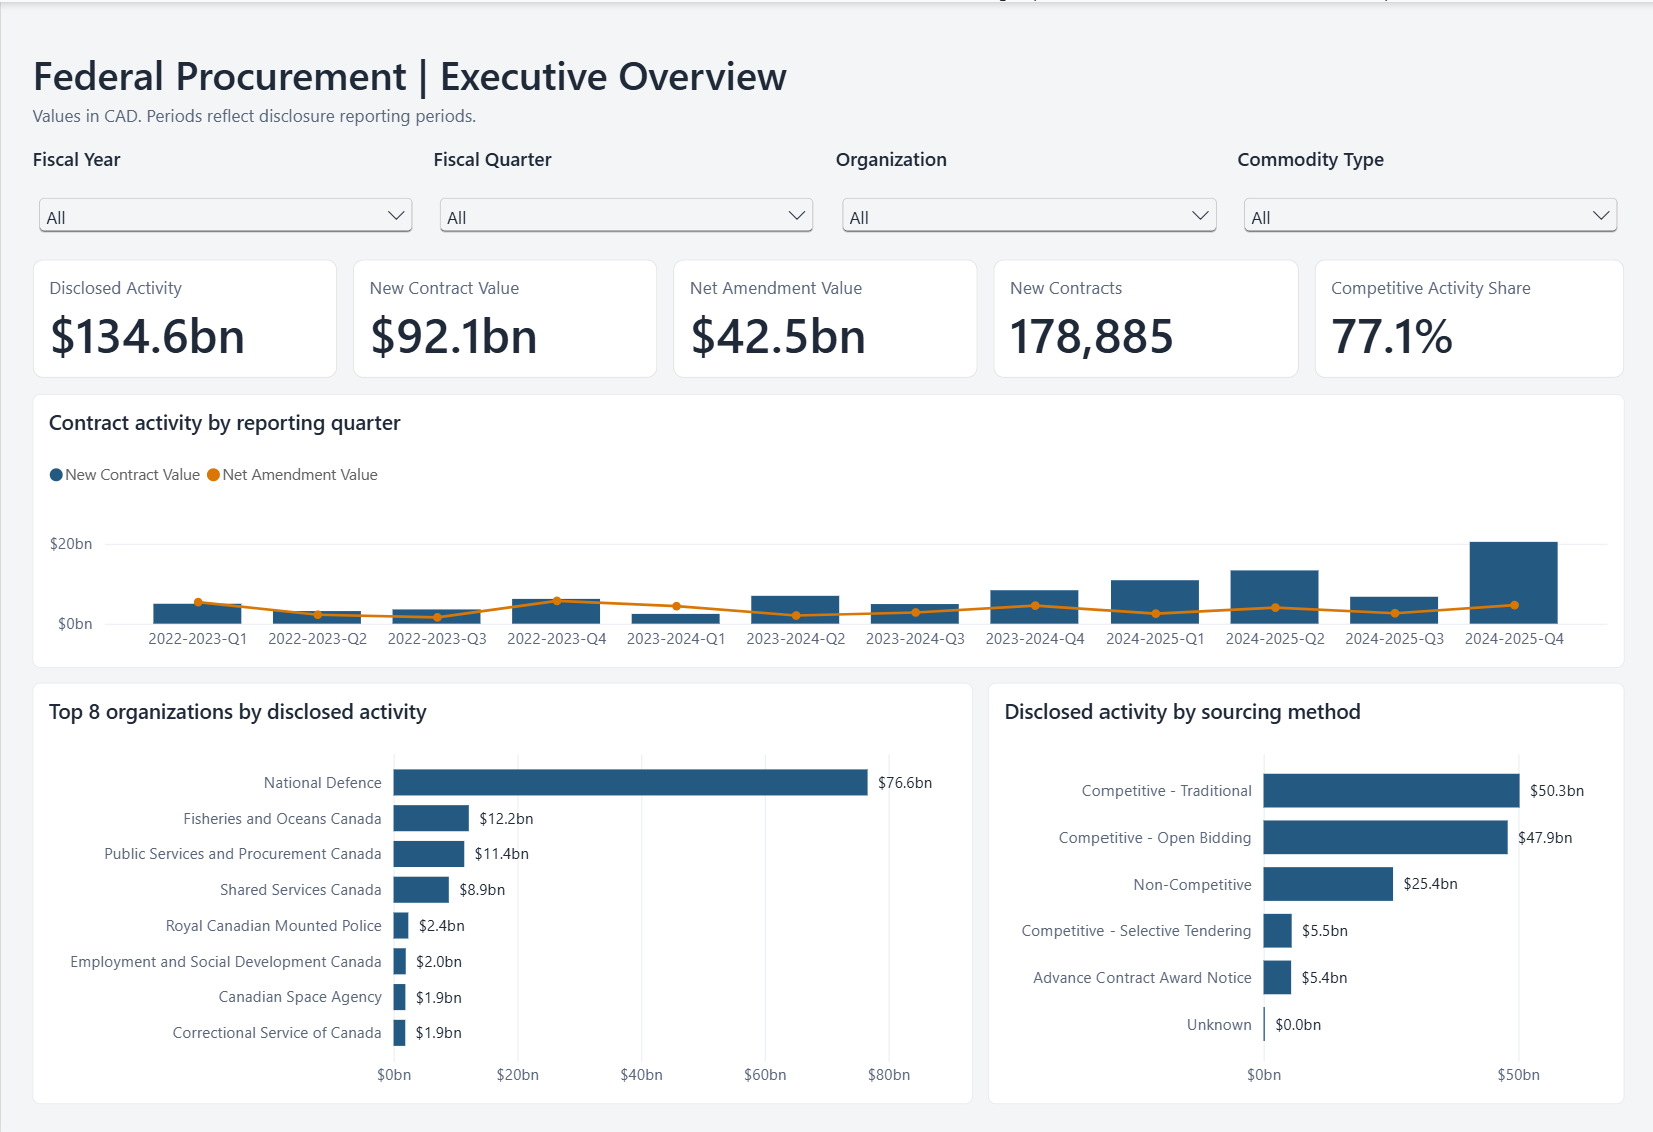

What the dashboard file says about the page in this screenshot:
{"tool":"powerbi","page":{"name":"Executive overview","canvas":[1280,850],"ordinal":0},"visuals":[{"type":"slicer","title":"Fiscal Year","fields":{"Values":["FactContracts.FiscalYear"]},"box":[24,84,299,76],"z":0},{"type":"slicer","title":"Fiscal Quarter","fields":{"Values":["FactContracts.FiscalQuarter"]},"box":[335,84,299,76],"z":1},{"type":"slicer","title":"Organization","fields":{"Values":["DimOrganization.name"]},"box":[646,84,299,76],"z":2},{"type":"slicer","title":"Commodity Type","fields":{"Values":["DimCategory.CommodityType"]},"box":[957,84,299,76],"z":3},{"type":"cardVisual","fields":{"Data":["Key Measures.Disclosed Activity"]},"box":[24,172,236,92],"z":4},{"type":"cardVisual","fields":{"Data":["Key Measures.New Contract Value"]},"box":[272,172,236,92],"z":5},{"type":"cardVisual","fields":{"Data":["Key Measures.Net Amendment Value"]},"box":[520,172,236,92],"z":6},{"type":"cardVisual","fields":{"Data":["Key Measures.New Contracts"]},"box":[768,172,236,92],"z":7},{"type":"lineClusteredColumnComboChart","title":"Contract activity by reporting quarter","fields":{"Category":["FactContracts.ReportingPeriod"],"Y":["Key Measures.New Contract Value"],"Y2":["Key Measures.Net Amendment Value"]},"box":[24,276,1232,212],"z":8},{"type":"clusteredBarChart","title":"Top 8 organizations by disclosed activity","fields":{"Category":["DimOrganization.name"],"Y":["Key Measures.Disclosed Activity"]},"box":[24,500,728,326],"z":9},{"type":"clusteredBarChart","title":"Disclosed activity by sourcing method","fields":{"Category":["FactContracts.SourcingMethod"],"Y":["Key Measures.Disclosed Activity"]},"box":[764,500,492,326],"z":10},{"type":"cardVisual","fields":{"Data":["Key Measures.Competitive Activity Share"]},"box":[1016,172,240,92],"z":11},{"type":"textbox","box":[24,52,1208,26],"z":12},{"type":"textbox","box":[24,8,1232,42],"z":13}]}

Visuals, with their boxes on the page's 1280x850 design canvas (x1, y1, x2, y2). These are canvas units, not pixel positions in the 1653x1132 screenshot, which may show the page scaled, cropped or inside an application window:
"Fiscal Year" slicer: pyautogui.locateOnScreen(24, 84, 323, 160)
"Fiscal Quarter" slicer: pyautogui.locateOnScreen(335, 84, 634, 160)
"Organization" slicer: pyautogui.locateOnScreen(646, 84, 945, 160)
"Commodity Type" slicer: pyautogui.locateOnScreen(957, 84, 1256, 160)
cardVisual - Key Measures.Disclosed Activity: pyautogui.locateOnScreen(24, 172, 260, 264)
cardVisual - Key Measures.New Contract Value: pyautogui.locateOnScreen(272, 172, 508, 264)
cardVisual - Key Measures.Net Amendment Value: pyautogui.locateOnScreen(520, 172, 756, 264)
cardVisual - Key Measures.New Contracts: pyautogui.locateOnScreen(768, 172, 1004, 264)
"Contract activity by reporting quarter" lineClusteredColumnComboChart: pyautogui.locateOnScreen(24, 276, 1256, 488)
"Top 8 organizations by disclosed activity" clusteredBarChart: pyautogui.locateOnScreen(24, 500, 752, 826)
"Disclosed activity by sourcing method" clusteredBarChart: pyautogui.locateOnScreen(764, 500, 1256, 826)
cardVisual - Key Measures.Competitive Activity Share: pyautogui.locateOnScreen(1016, 172, 1256, 264)
textbox: pyautogui.locateOnScreen(24, 52, 1232, 78)
textbox: pyautogui.locateOnScreen(24, 8, 1256, 50)
